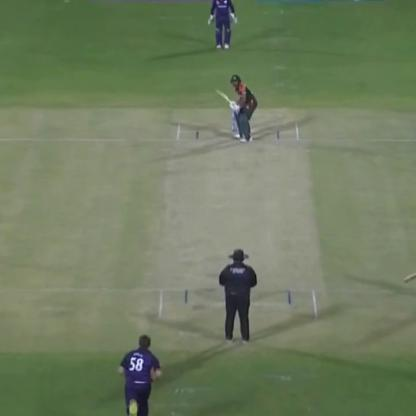bat: (208, 85, 238, 116)
pitch: (155, 128, 321, 330)
